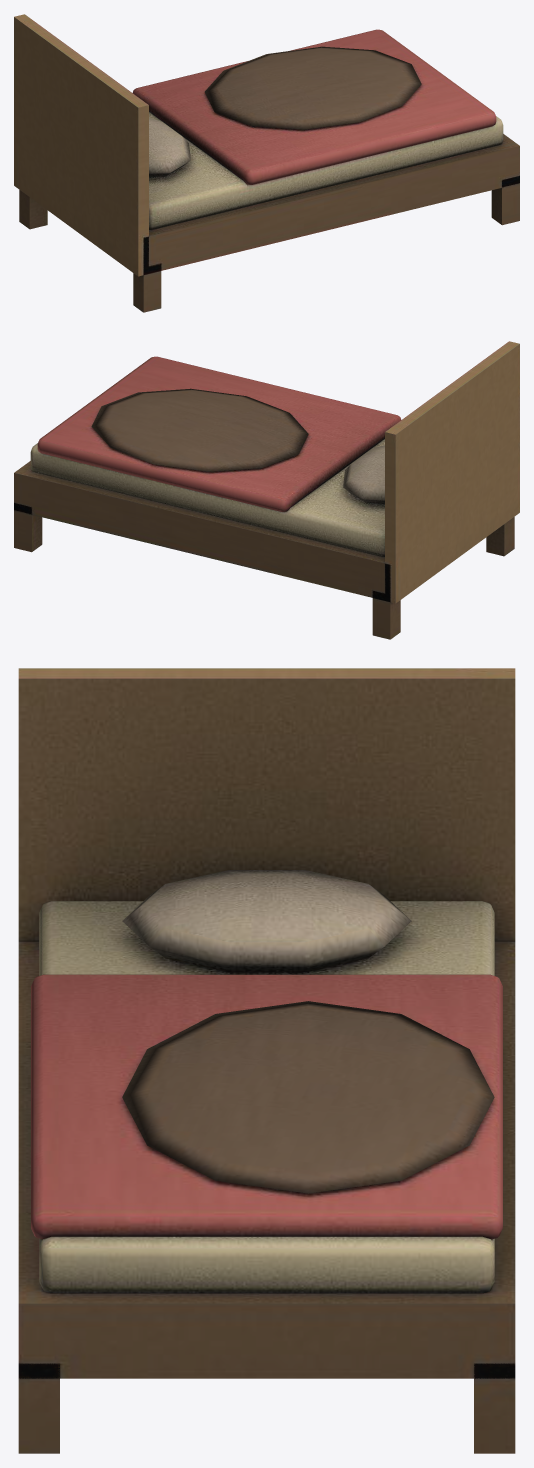
The model's file is bed.glb.
The picture shows the model from 3 angles, top to bottom: view 1: azimuth 30°, elevation 25°; view 2: azimuth 150°, elevation 25°; view 3: azimuth 270°, elevation 25°; orthographic projection. The views are drawn at different scales.
Parts seen in each view (by area): view 1: blanket; view 2: blanket; view 3: blanket.
Part boxes in pixels (x1,y1,x2,y2): blanket: [14, 14, 519, 312]; blanket: [14, 341, 519, 639]; blanket: [18, 668, 515, 1453].
Bounding box in the file's own units: 2.13 × 1.1 × 1.2.
Materials: 1 (1 with a texture image).
